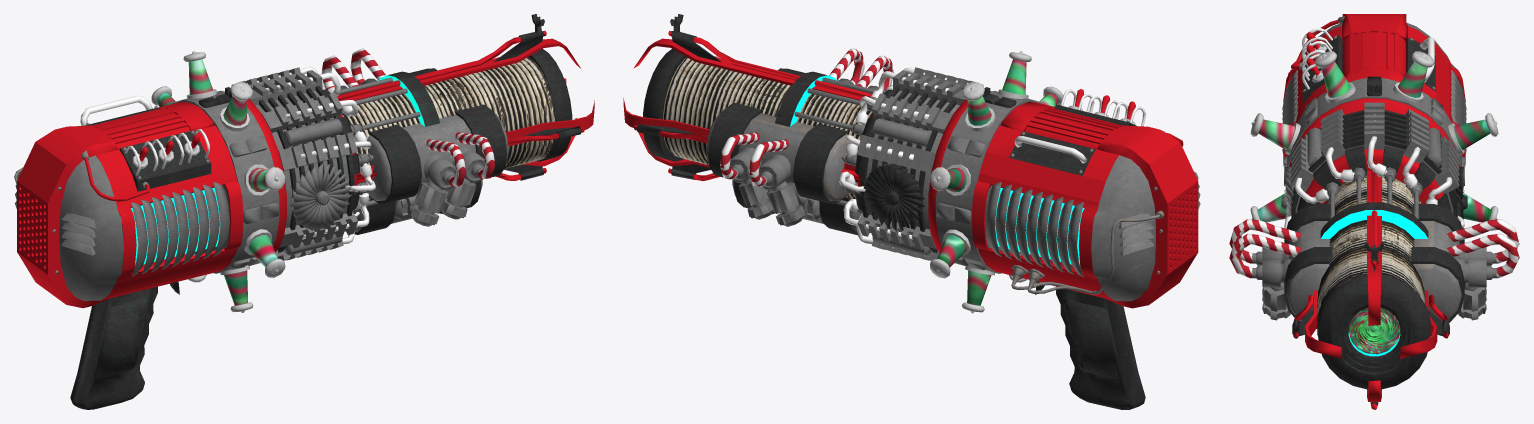
File: x-mas-gun.fbx
3 views of the same model, side by side, from view 1: azimuth 30°, elevation 25°; view 2: azimuth 150°, elevation 25°; view 3: azimuth 270°, elevation 25° (orthographic). The views are drawn at different scales.
Parts seen in each view (by area): view 1: Mesh50 Group30 Group29 Group11 Group3 Group2 Group_65_1 Grou; view 2: Mesh50 Group30 Group29 Group11 Group3 Group2 Group_65_1 Grou; view 3: Mesh50 Group30 Group29 Group11 Group3 Group2 Group_65_1 Grou.
Part boxes in pixels (bbox=[...]): Mesh50 Group30 Group29 Group11 Group3 Group2 Group_65_1 Grou: bbox=[14, 14, 594, 409]; Mesh50 Group30 Group29 Group11 Group3 Group2 Group_65_1 Grou: bbox=[623, 14, 1200, 409]; Mesh50 Group30 Group29 Group11 Group3 Group2 Group_65_1 Grou: bbox=[1229, 14, 1519, 409].
Size of the model in its own units: 55.13 by 29.74 by 24.47.
Materials: 10 (7 with a texture image).
